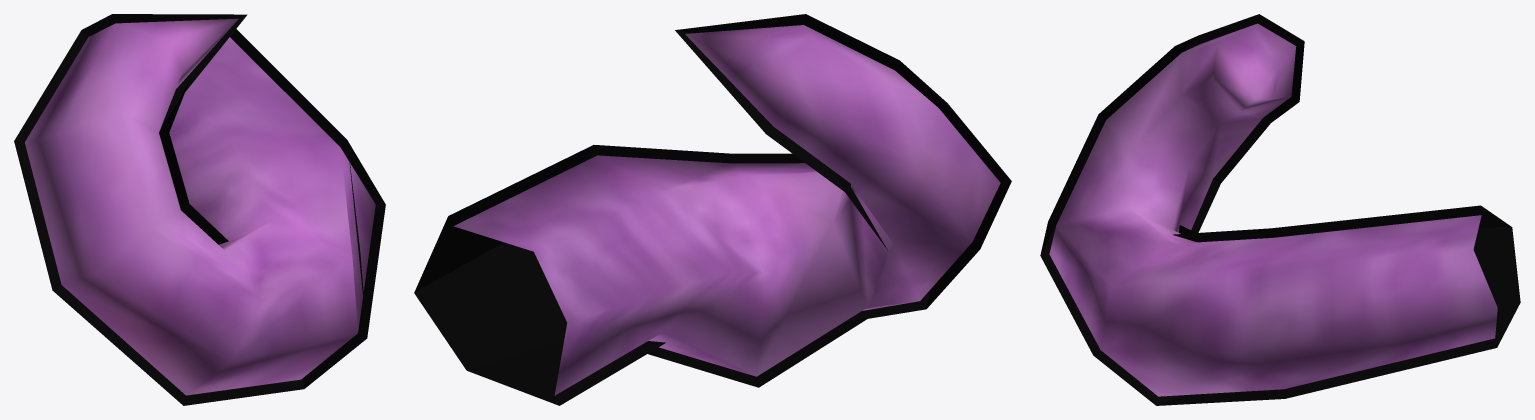
Rendered from entity239778.gltf.
3 views of the same model, side by side, from view 1: azimuth 30°, elevation 25°; view 2: azimuth 150°, elevation 25°; view 3: azimuth 270°, elevation 25° (orthographic). The views are drawn at different scales.
Parts seen in each view (by area): view 1: node_mesh_pig_01; view 2: node_mesh_pig_01; view 3: node_mesh_pig_01.
Boxes of the visible parts, x1=… form: node_mesh_pig_01: x1=14, y1=14, x2=385, y2=405; node_mesh_pig_01: x1=414, y1=14, x2=1011, y2=405; node_mesh_pig_01: x1=1040, y1=14, x2=1520, y2=405.
Bounding box in the file's own units: 0.1568 × 0.1472 × 0.1929.
